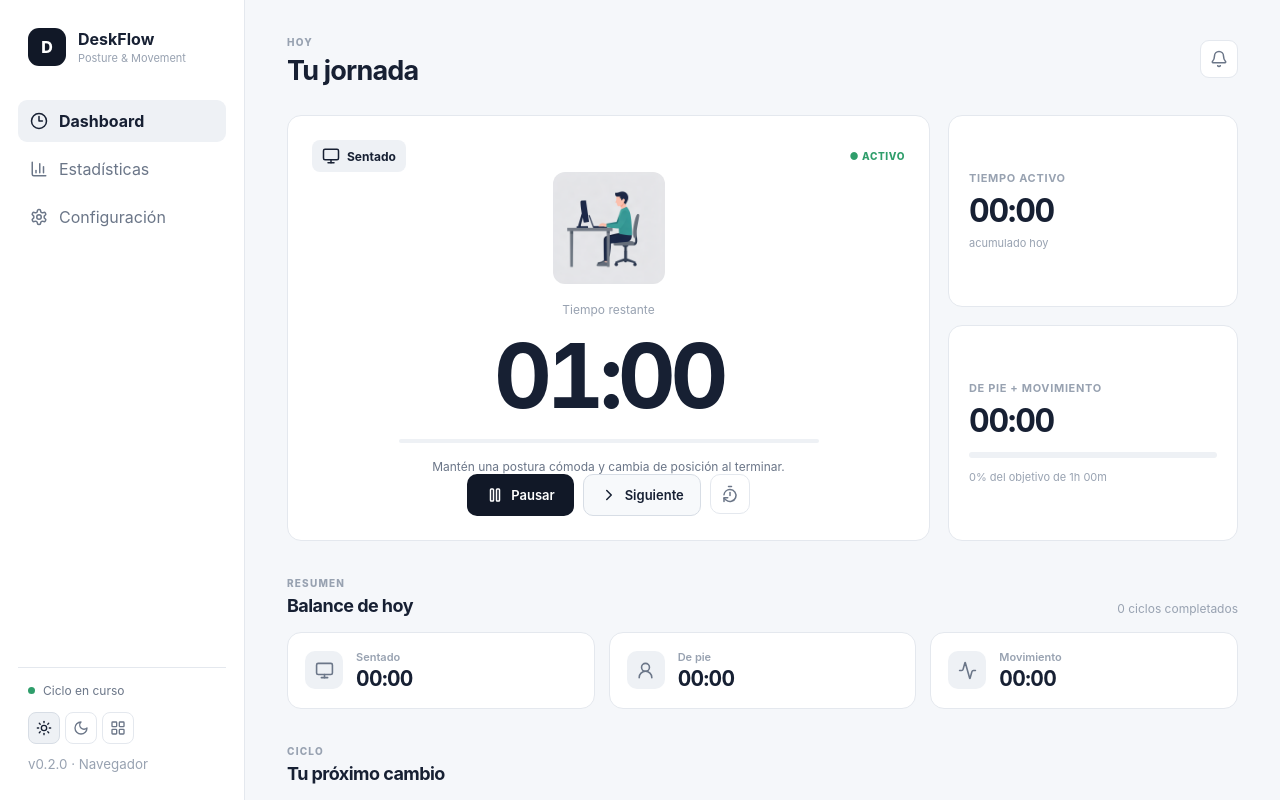
Test case: persistence › rejects a non-numeric duration and restores the old value
Press 3
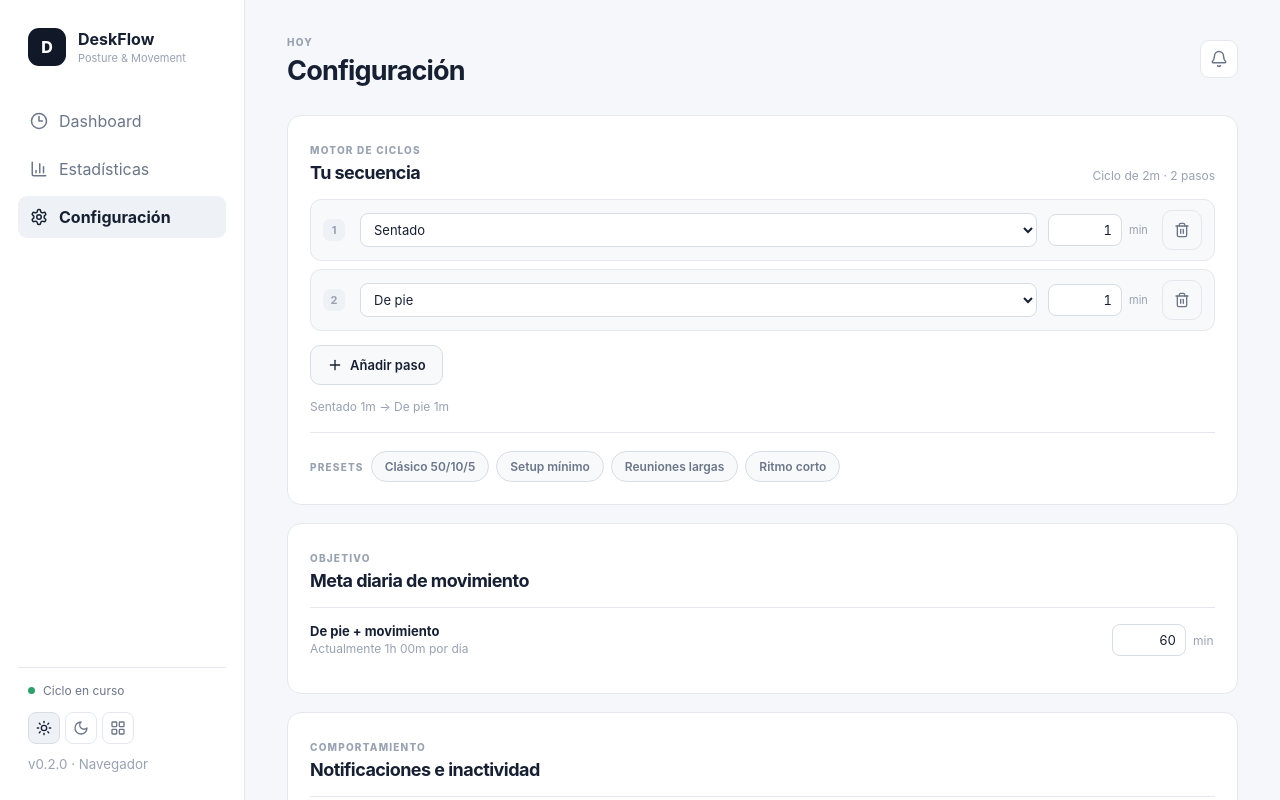
Replace the text in the field named "Duración del paso 1" with "abc" at [1085, 230], box x1=1048 y1=214 x2=1122 y2=246
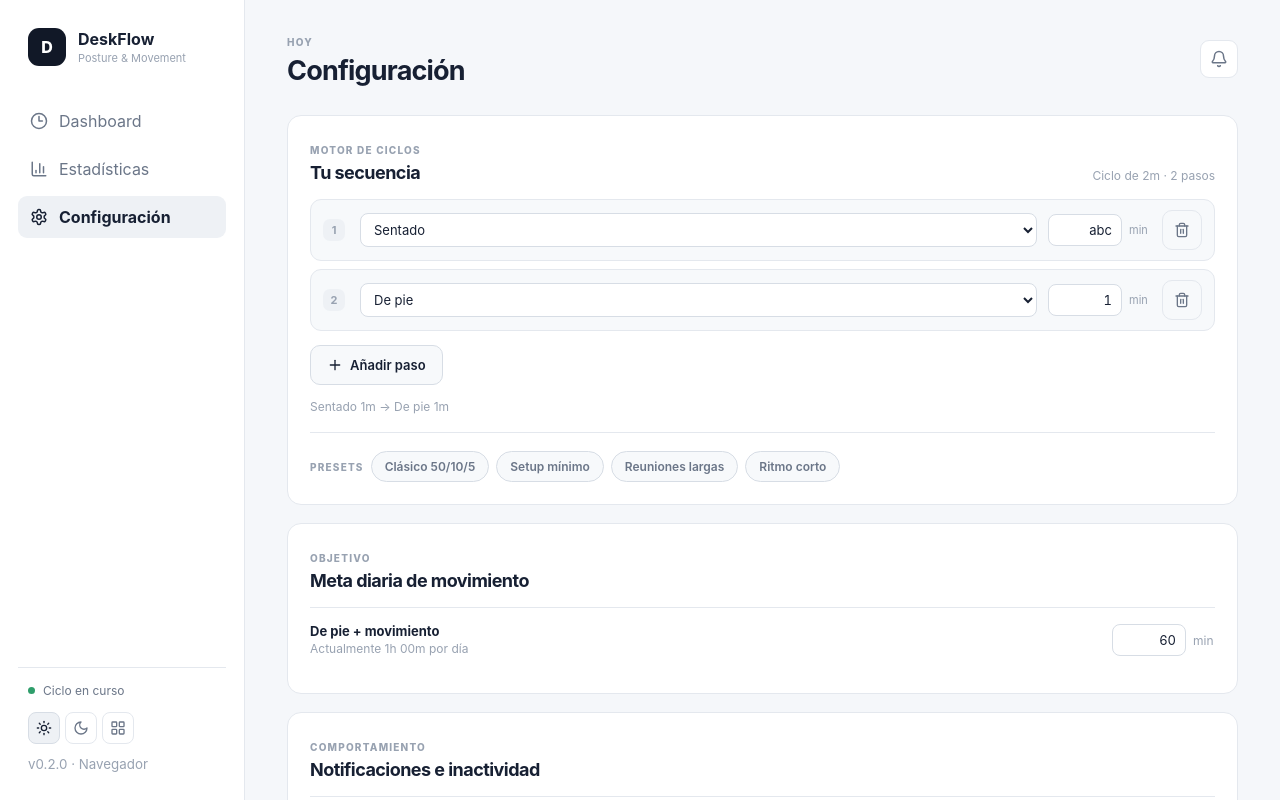
Leave the field named "Duración del paso 1", box x1=1048 y1=214 x2=1122 y2=246
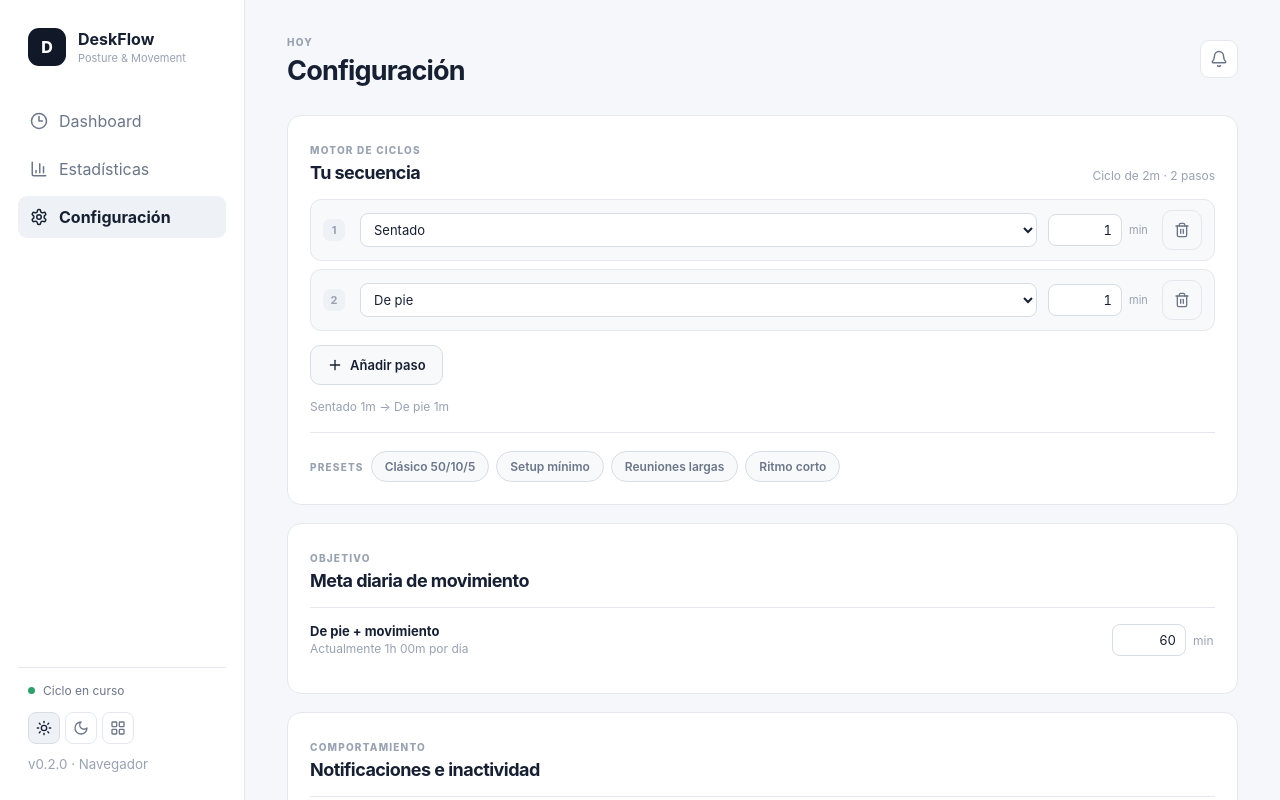
Expected: the field named "Duración del paso 1" holds "1", x1=1048 y1=214 x2=1122 y2=246
